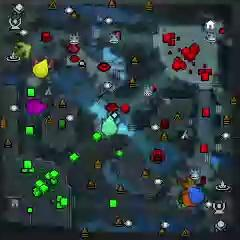p1: (188, 186, 205, 205)
p2: (101, 116, 118, 137)
p3: (27, 99, 48, 114)
p4: (33, 59, 49, 78)
p5: (181, 192, 197, 207)
x2: (16, 41, 32, 58)
x5: (180, 175, 197, 188)
